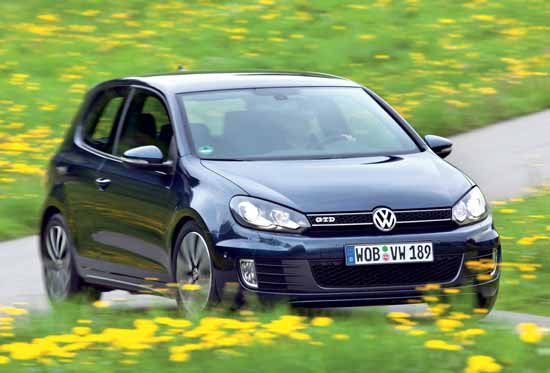Carro: (32, 67, 510, 329)
